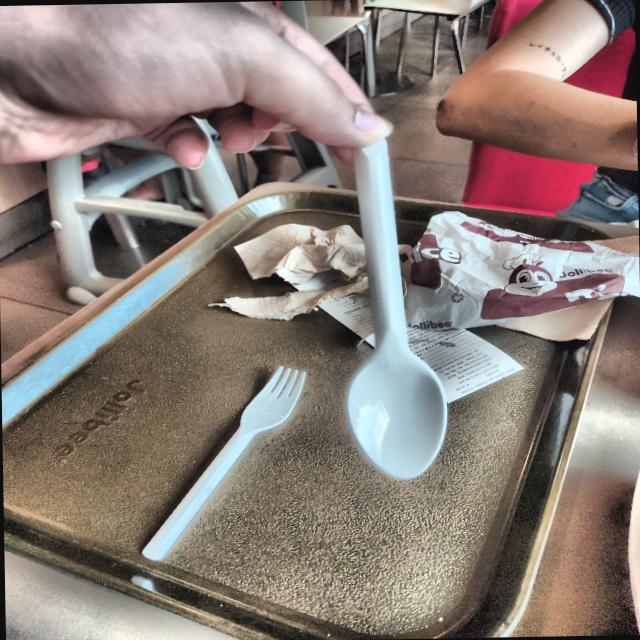plastic utensil: (346, 139, 447, 479), (142, 367, 304, 559)
